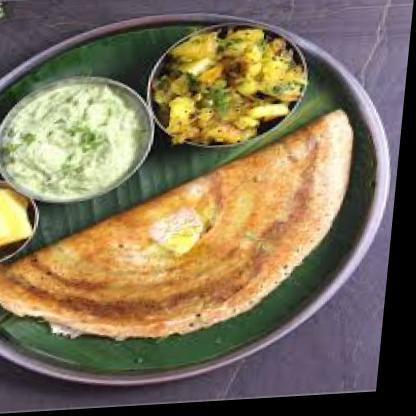dosa: (0, 115, 357, 348)
